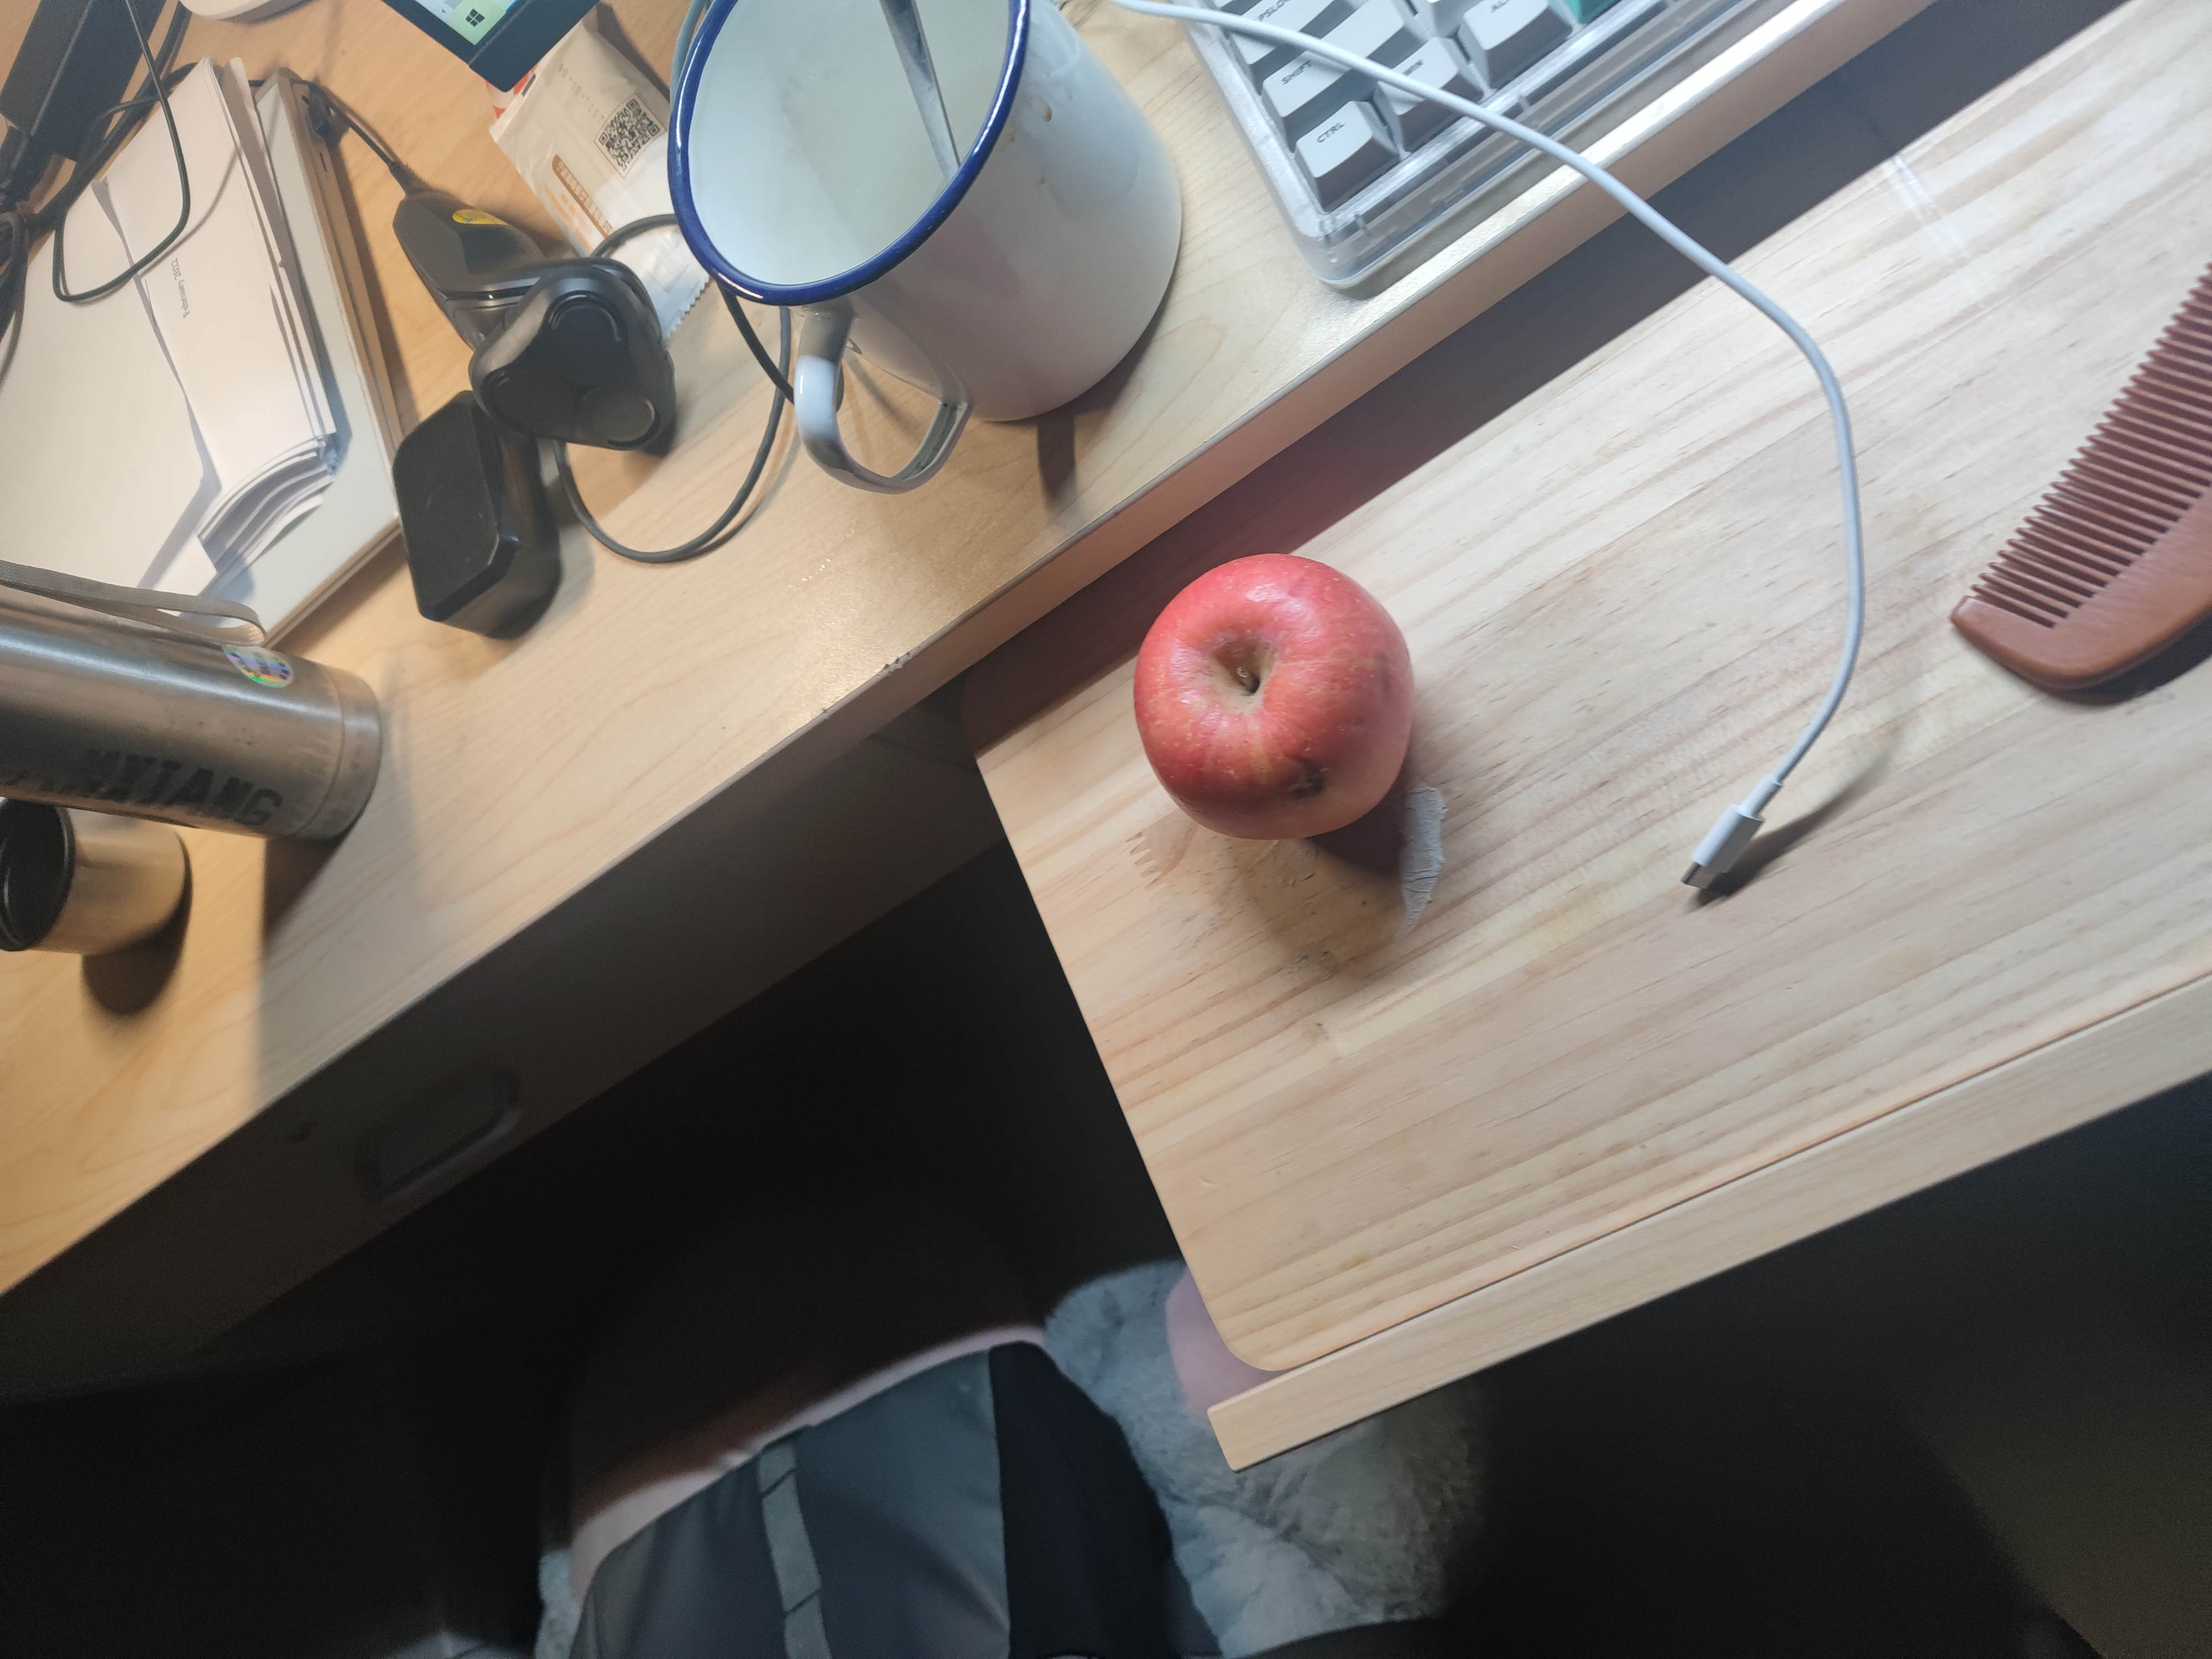apple: (1125, 552, 1426, 843)
